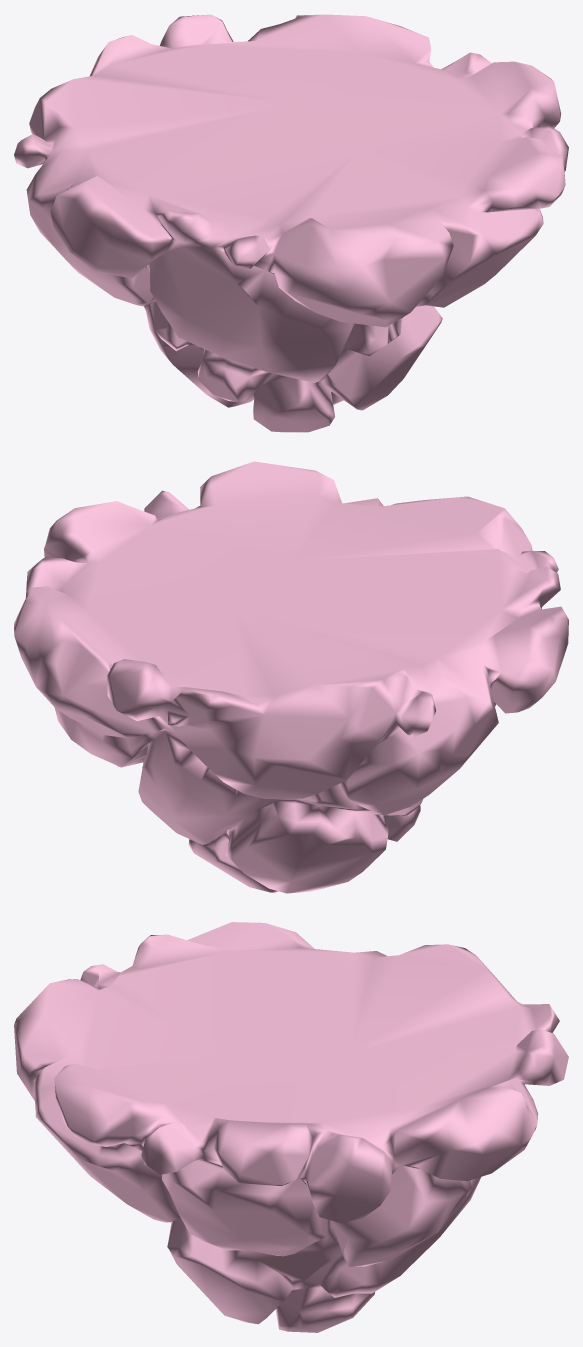
File: island_5_LOD4.fbx
The picture shows the model from 3 angles, top to bottom: view 1: azimuth 30°, elevation 25°; view 2: azimuth 150°, elevation 25°; view 3: azimuth 270°, elevation 25°; orthographic projection. The views are drawn at different scales.
Visible parts, largest first — view 1: Island_5_LOD4; view 2: Island_5_LOD4; view 3: Island_5_LOD4.
Boxes of the visible parts, left/top/right/bottom form: Island_5_LOD4: left=14, top=14, right=568, bottom=432; Island_5_LOD4: left=14, top=461, right=568, bottom=893; Island_5_LOD4: left=14, top=922, right=568, bottom=1332.
Bounding box in the file's own units: 1509 × 920 × 1507.
